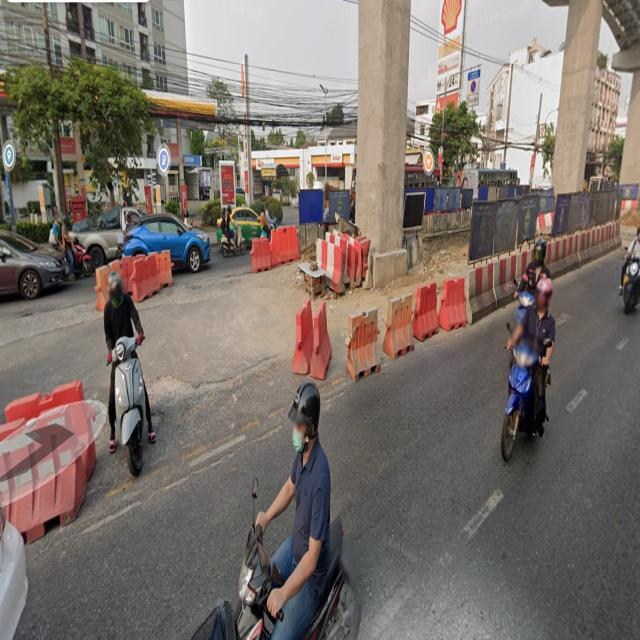fallen_object: (0, 376, 99, 542), (236, 209, 379, 288), (77, 255, 187, 327), (523, 216, 629, 269), (463, 245, 532, 322), (272, 302, 332, 388), (393, 265, 446, 340), (347, 302, 386, 389), (383, 283, 422, 368), (440, 262, 472, 339)
